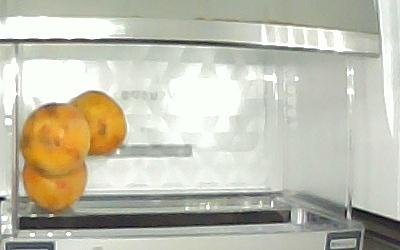peach: (20, 103, 90, 177), (67, 91, 127, 156), (22, 155, 88, 211)
